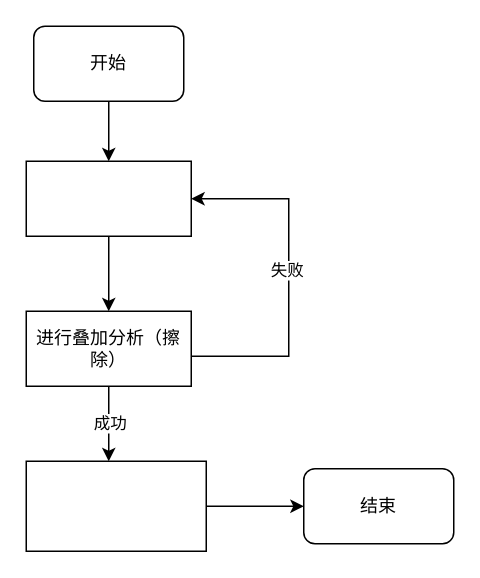
Some shapes in this 480 by 578 pixel diagram are drawn without their labels. Here are the shapes that lost their labels. From the top down, the centre of each, then its label:
the point at 108,198: 编辑参数
the point at 115,505: 外抛结果数据， 加载结果图层数据
